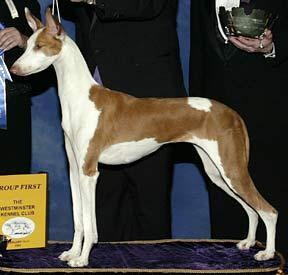Ibizan_hound: (8, 5, 281, 269)
